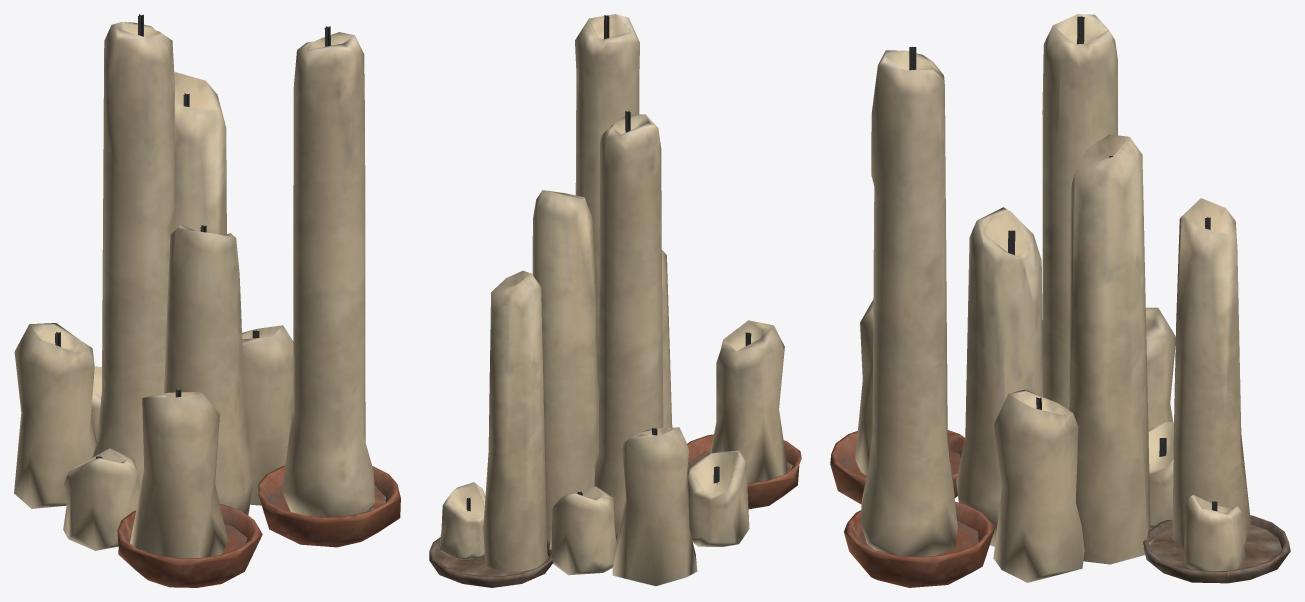
File: SM_CandleCluster_01a.gltf
The picture shows the model from 3 angles, left to right: view 1: azimuth 30°, elevation 25°; view 2: azimuth 150°, elevation 25°; view 3: azimuth 270°, elevation 25°; orthographic projection. The views are drawn at different scales.
Visible parts, largest first — view 1: SM_CandleCluster_01a_LOD0; view 2: SM_CandleCluster_01a_LOD0; view 3: SM_CandleCluster_01a_LOD0.
Part boxes in pixels (x1,y1,x2,y2): SM_CandleCluster_01a_LOD0: [14, 14, 400, 587]; SM_CandleCluster_01a_LOD0: [429, 14, 801, 587]; SM_CandleCluster_01a_LOD0: [830, 14, 1290, 587].
Size of what is drawn, in the model's own units: 0.3865 by 0.6769 by 0.5422.
Materials: 1 (1 with a texture image).
